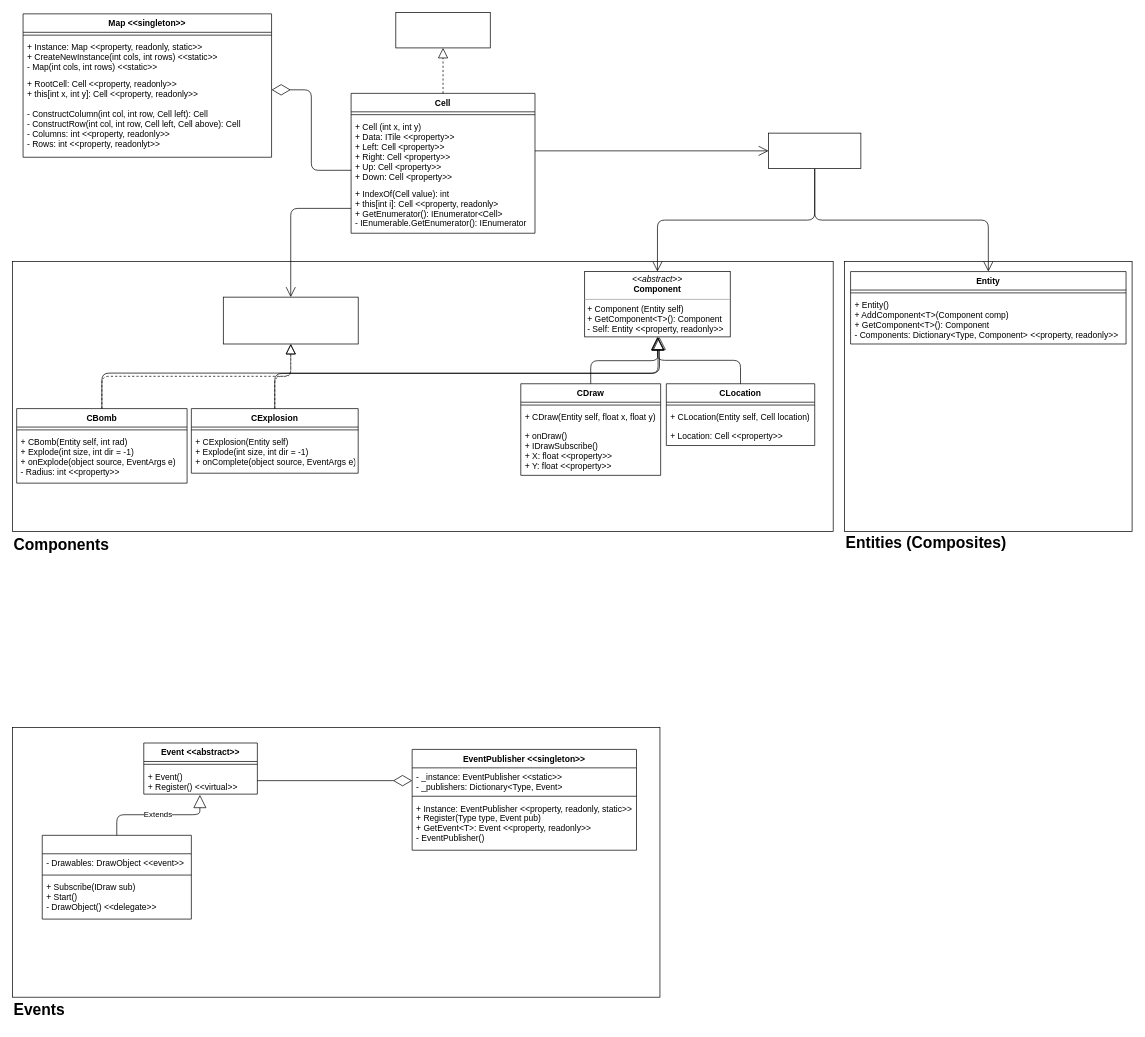
Some shapes in this 1145 by 1037 pixel diagram are drawn without their labels. The box of each missing label's shape, as (x1, y1, x2, y2) in pixels:
<<Interface>> ITile + Explode(int size, int dir = -1): (223, 296, 358, 344)
EDraw: (42, 835, 191, 919)
«interface» IEnumberable<Cell>: (395, 12, 490, 48)
«unimplemented» EntityFactory: (768, 132, 861, 169)
